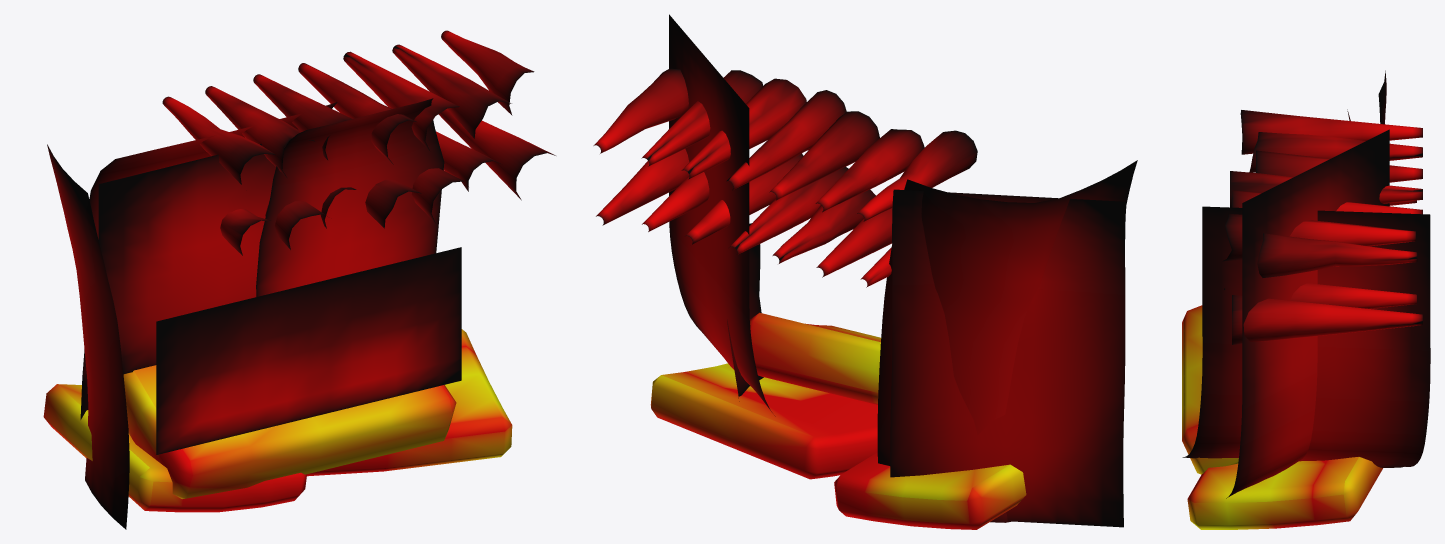
Rendered from fire.glb.
3 views of the same model, side by side, from view 1: azimuth 30°, elevation 25°; view 2: azimuth 150°, elevation 25°; view 3: azimuth 270°, elevation 25° (orthographic). The views are drawn at different scales.
Parts seen in each view (by area): view 1: fire_card_03, logs, fire_card_06, fire_card_02, fire_card_05, fire_cylinder_11, fire_card_01, fire_cylinder_05, fire_cylinder_14, fire_cylinder_01, fire_cylinder_02, fire_cylinder_04 (+7 smaller); view 2: fire_card_05, logs, fire_card_04, fire_cylinder_04, fire_cylinder_03, fire_cylinder_05, fire_cylinder_02, fire_cylinder_01, fire_cylinder_12, fire_cylinder_09, fire_cylinder_14, fire_cylinder_11 (+5 smaller); view 3: fire_card_04, logs, fire_cylinder_14, fire_cylinder_12, fire_cylinder_01, fire_cylinder_11, fire_cylinder_02, fire_cylinder_13, fire_cylinder_03, fire_cylinder_04, fire_cylinder_05.
Boxes of the visible parts, x1=… form: fire_card_03: x1=156, y1=247, x2=461, y2=454; logs: x1=43, y1=329, x2=512, y2=512; fire_card_06: x1=98, y1=139, x2=290, y2=374; fire_card_02: x1=256, y1=98, x2=444, y2=296; fire_card_05: x1=47, y1=144, x2=129, y2=529; fire_cylinder_11: x1=392, y1=44, x2=511, y2=138; fire_card_01: x1=80, y1=102, x2=337, y2=419; fire_cylinder_05: x1=343, y1=51, x2=459, y2=150; fire_cylinder_14: x1=438, y1=109, x2=555, y2=200; fire_cylinder_01: x1=162, y1=96, x2=275, y2=184; fire_cylinder_02: x1=205, y1=86, x2=314, y2=177; fire_cylinder_04: x1=298, y1=63, x2=416, y2=164; fire_card_05: x1=877, y1=160, x2=1137, y2=527; logs: x1=650, y1=312, x2=1026, y2=529; fire_card_04: x1=669, y1=14, x2=775, y2=416; fire_cylinder_04: x1=726, y1=90, x2=846, y2=190; fire_cylinder_03: x1=769, y1=111, x2=879, y2=200; fire_cylinder_05: x1=681, y1=78, x2=806, y2=179; fire_cylinder_02: x1=815, y1=129, x2=924, y2=212; fire_cylinder_01: x1=857, y1=130, x2=977, y2=221; fire_cylinder_12: x1=593, y1=68, x2=688, y2=153; fire_cylinder_09: x1=729, y1=167, x2=848, y2=255; fire_cylinder_14: x1=596, y1=149, x2=689, y2=225; fire_cylinder_11: x1=641, y1=70, x2=762, y2=166; fire_card_04: x1=1182, y1=129, x2=1430, y2=498; logs: x1=1182, y1=305, x2=1382, y2=529; fire_cylinder_14: x1=1232, y1=295, x2=1422, y2=344; fire_cylinder_12: x1=1257, y1=233, x2=1417, y2=277; fire_cylinder_01: x1=1240, y1=110, x2=1422, y2=154; fire_cylinder_11: x1=1222, y1=213, x2=1415, y2=261; fire_cylinder_02: x1=1249, y1=132, x2=1422, y2=172; fire_cylinder_13: x1=1290, y1=283, x2=1416, y2=308; fire_cylinder_03: x1=1256, y1=150, x2=1422, y2=182; fire_cylinder_04: x1=1230, y1=171, x2=1422, y2=207; fire_cylinder_05: x1=1232, y1=190, x2=1422, y2=214.
Bounding box in the file's own units: 0.4183 × 0.3056 × 0.2014.
